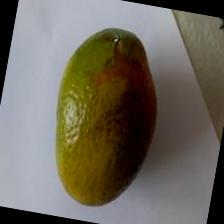Orange Rotten: (32, 4, 184, 222)
